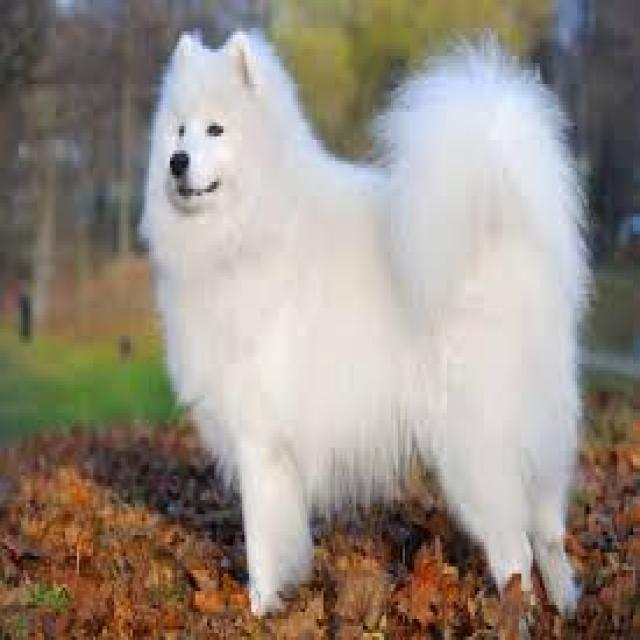dogs: (138, 23, 591, 623)
